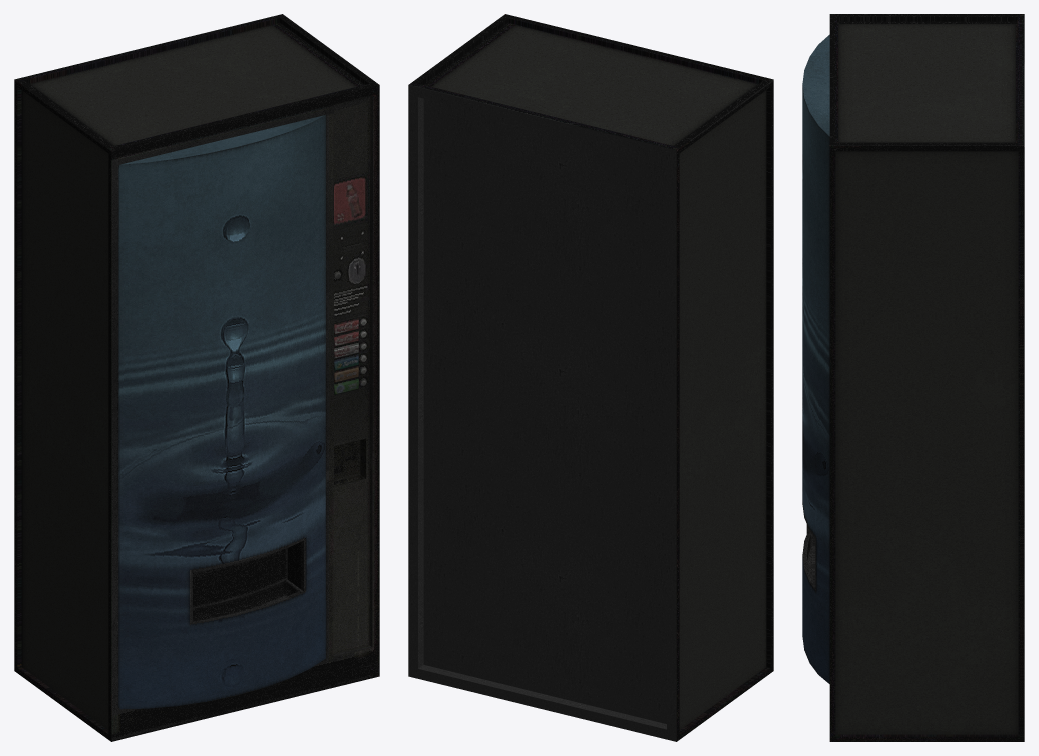
Rendered from vending_machine_1.glb.
The picture shows the model from 3 angles, left to right: view 1: azimuth 30°, elevation 25°; view 2: azimuth 150°, elevation 25°; view 3: azimuth 270°, elevation 25°; orthographic projection.
Visible parts, largest first — view 1: vending_machine_1; view 2: vending_machine_1; view 3: vending_machine_1.
Part boxes in pixels (box(x1,y1,x2,y2)): vending_machine_1: box(14, 14, 379, 741); vending_machine_1: box(408, 14, 773, 741); vending_machine_1: box(802, 14, 1024, 741).
Size of the model in its own units: 0.952 by 2.01 by 0.6778.
2 materials, 2 textured.
